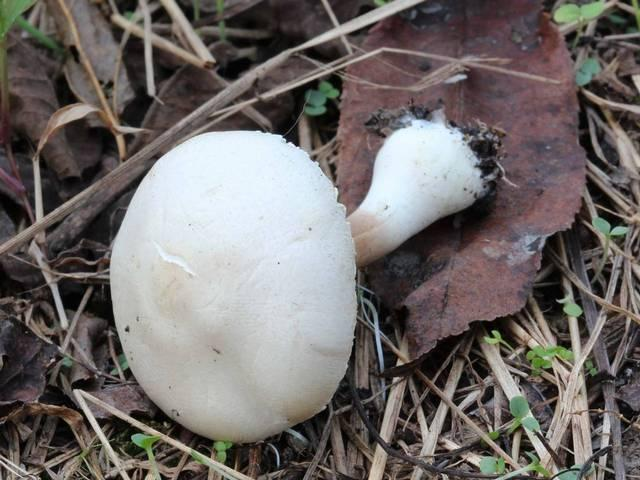poisonous_mushroom: (107, 128, 359, 445), (345, 110, 496, 266)
